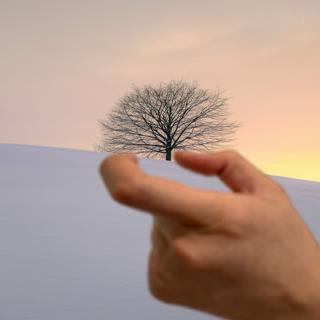HATE: (87, 143, 320, 320)
